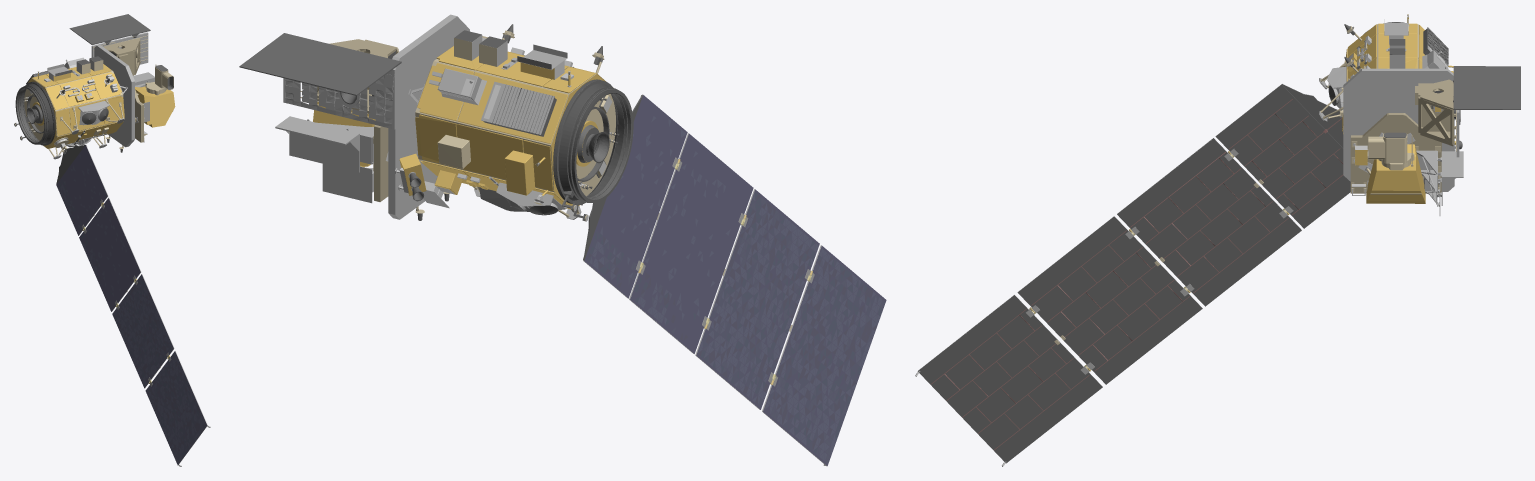
The model's file is landsat8.glb.
3 views of the same model, side by side, from view 1: azimuth 30°, elevation 25°; view 2: azimuth 150°, elevation 25°; view 3: azimuth 270°, elevation 25° (orthographic). The views are drawn at different scales.
Visible parts, largest first — view 1: Layer_0; view 2: Layer_0; view 3: Layer_0.
Boxes of the visible parts, left/top/right/bottom form: Layer_0: left=14, top=14, right=210, bottom=466; Layer_0: left=239, top=14, right=886, bottom=466; Layer_0: left=915, top=14, right=1520, bottom=466.
Bounding box in the file's own units: 4.87 × 9.82 × 12.
